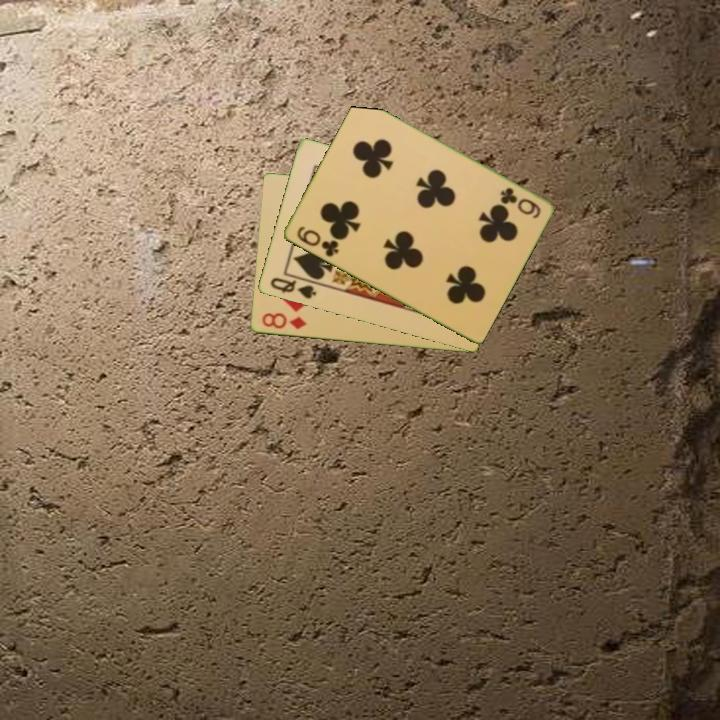6c: (496, 184, 543, 222), (293, 223, 341, 260)
8d: (258, 309, 309, 332)
Qs: (266, 274, 319, 302)
